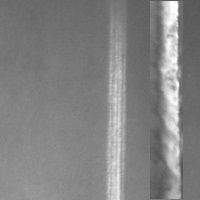scratches: (150, 1, 183, 199), (104, 10, 128, 199)
